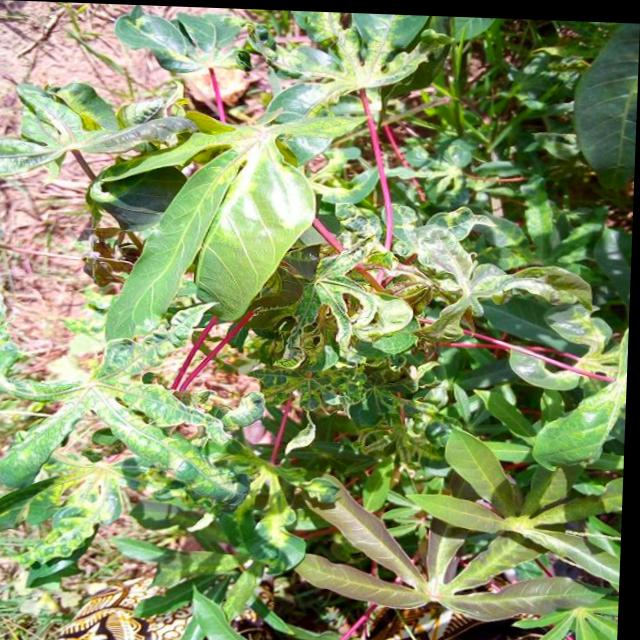Mosaico: (29, 373, 250, 577), (225, 238, 444, 390), (409, 210, 547, 359), (111, 16, 316, 112), (316, 381, 461, 486), (260, 39, 454, 114), (14, 91, 161, 182)
